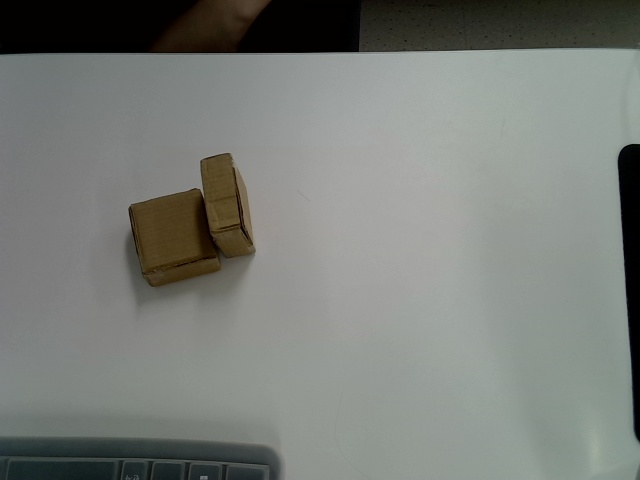normal: (129, 188, 220, 288), (201, 152, 257, 258)
